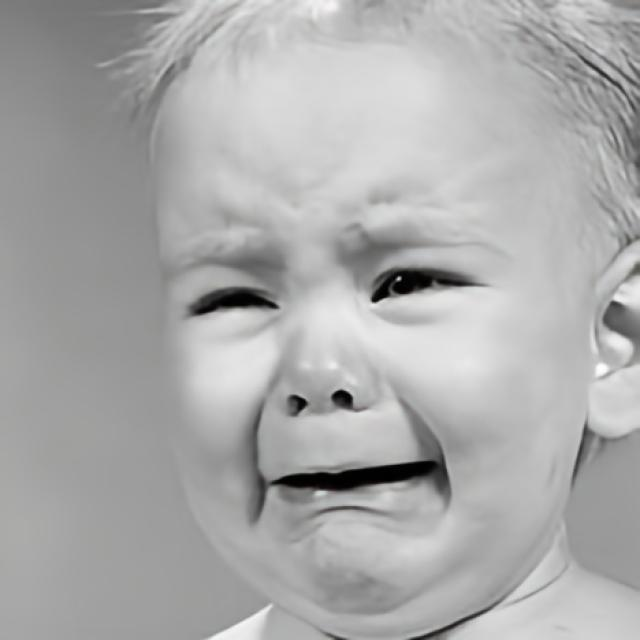sad: (150, 32, 588, 612)
